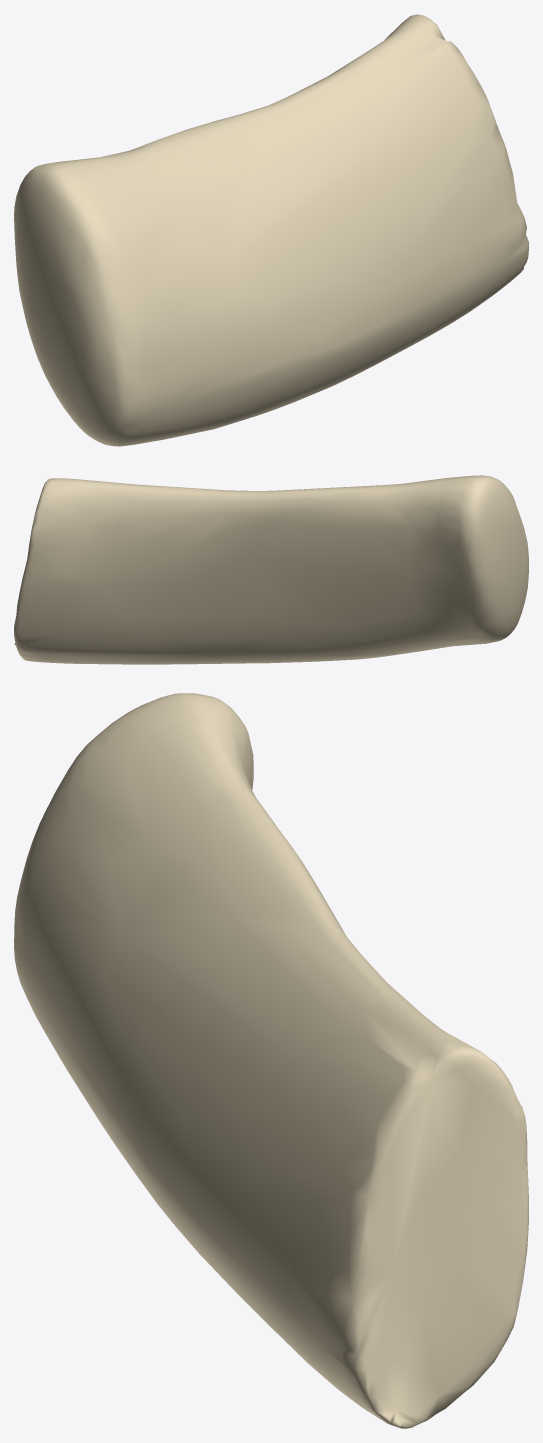
File: esqueleto-costal-cartilage-of-third-rib-l.glb
3 views of the same model, one above another, from view 1: azimuth 30°, elevation 25°; view 2: azimuth 150°, elevation 25°; view 3: azimuth 270°, elevation 25° (orthographic). The views are drawn at different scales.
Parts seen in each view (by area): view 1: Costal cartilage of third rib.l; view 2: Costal cartilage of third rib.l; view 3: Costal cartilage of third rib.l.
Boxes of the visible parts, x1,y1,x2,y2 form: Costal cartilage of third rib.l: (14, 14, 528, 446); Costal cartilage of third rib.l: (14, 475, 528, 664); Costal cartilage of third rib.l: (14, 693, 528, 1428).
Size of the model in its own units: 0.0373 by 0.0194 by 0.0223.
